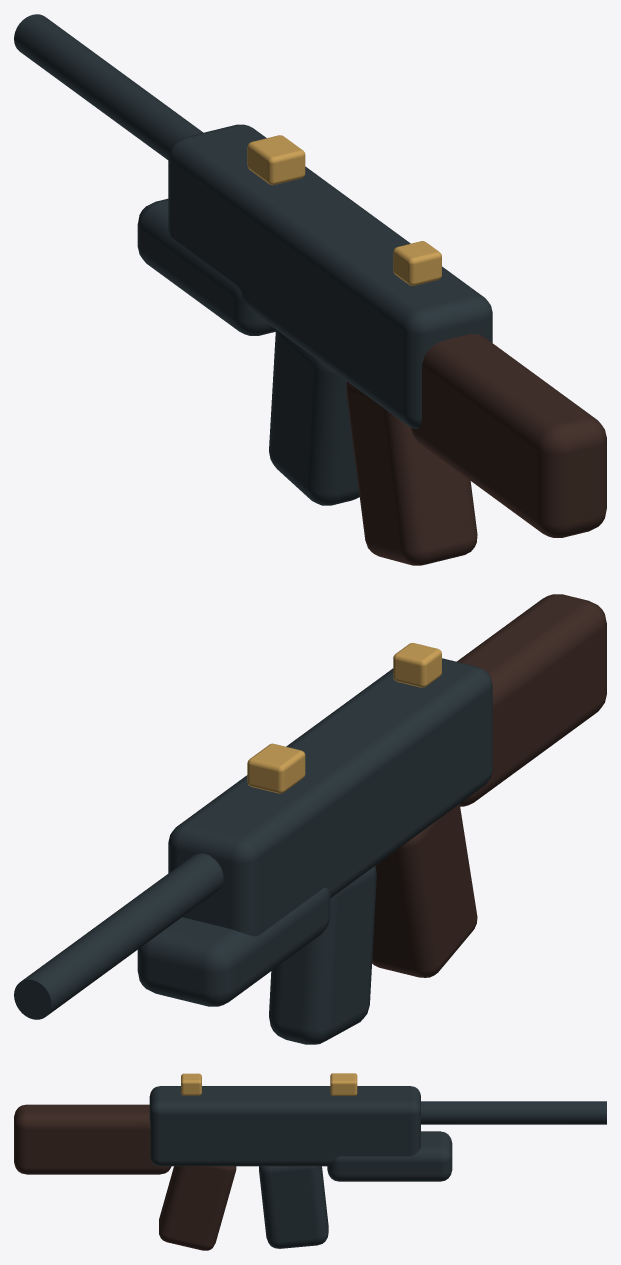
Rendered from smg.glb.
3 views of the same model, one above another, from view 1: azimuth 30°, elevation 25°; view 2: azimuth 150°, elevation 25°; view 3: azimuth 270°, elevation 25° (orthographic). The views are drawn at different scales.
Visible parts, largest first — view 1: smg; view 2: smg; view 3: smg.
Boxes of the visible parts, box(x1,y1,x2,y2) form: smg: box(14, 14, 606, 565); smg: box(14, 594, 606, 1044); smg: box(14, 1073, 606, 1250).
Size of the model in its own units: 0.14 by 0.4439 by 1.42.
